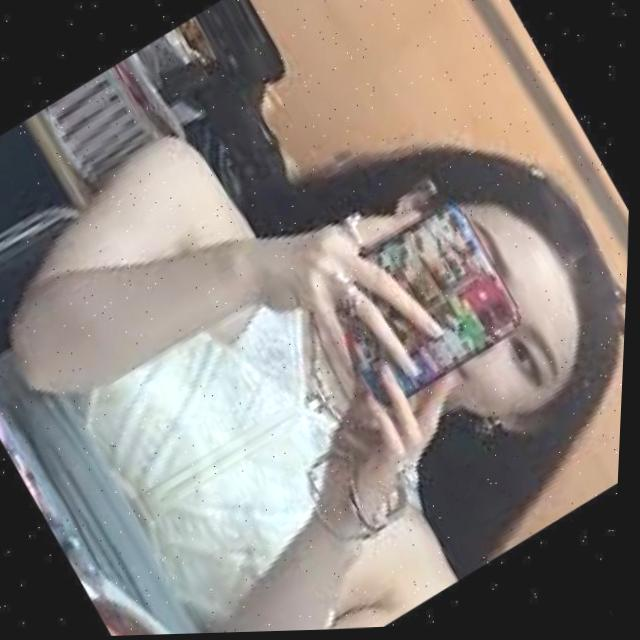Smartphone: (307, 194, 531, 418)
